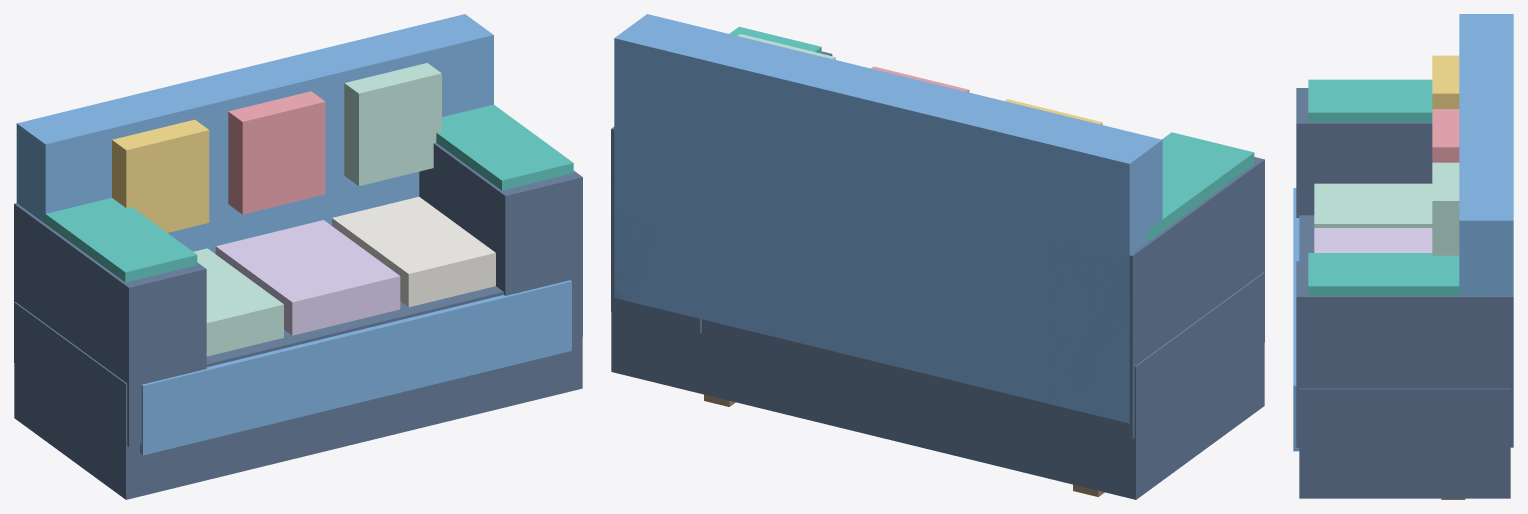
The model's file is lounge_sofa.glb.
3 views of the same model, side by side, from view 1: azimuth 30°, elevation 25°; view 2: azimuth 150°, elevation 25°; view 3: azimuth 270°, elevation 25° (orthographic). The views are drawn at different scales.
Parts seen in each view (by area): view 1: sofa_back, sofa_base, sofa_front, L_arm, R_arm, cushion_1, cushion_2, pillow_1, pillow_2, pillow_0, L_arm_pad, R_arm_pad (+1 smaller); view 2: sofa_back, sofa_base, L_arm, L_arm_pad, R_arm; view 3: sofa_base, R_arm, sofa_back, L_arm, R_arm_pad, L_arm_pad, cushion_0, cushion_1, pillow_2, pillow_1, pillow_0, sofa_front.
Part boxes in pixels (x1,y1,x2,y2): sofa_back: [16, 14, 493, 253]; sofa_base: [14, 286, 582, 499]; sofa_front: [140, 280, 571, 455]; L_arm: [14, 203, 206, 446]; R_arm: [419, 143, 582, 338]; cushion_1: [215, 220, 400, 335]; cushion_2: [332, 196, 495, 307]; pillow_1: [228, 91, 325, 214]; pillow_2: [344, 63, 441, 185]; pillow_0: [112, 119, 209, 232]; L_arm_pad: [32, 198, 197, 282]; R_arm_pad: [436, 104, 573, 190]; sofa_back: [614, 14, 1162, 423]; sofa_base: [611, 272, 1264, 499]; L_arm: [1043, 157, 1264, 439]; L_arm_pad: [1148, 132, 1254, 241]; R_arm: [611, 51, 832, 333]; sofa_base: [1299, 215, 1510, 498]; R_arm: [1296, 261, 1513, 447]; sofa_back: [1459, 14, 1513, 295]; L_arm: [1296, 88, 1432, 217]; R_arm_pad: [1308, 253, 1483, 295]; L_arm_pad: [1308, 79, 1432, 122]; cushion_0: [1314, 183, 1432, 227]; cushion_1: [1314, 228, 1432, 252]; pillow_2: [1432, 162, 1459, 255]; pillow_1: [1432, 109, 1459, 162]; pillow_0: [1432, 55, 1459, 108]; sofa_front: [1293, 188, 1299, 451].
Size of the model in its own units: 1.65 by 1.11 by 0.73.
